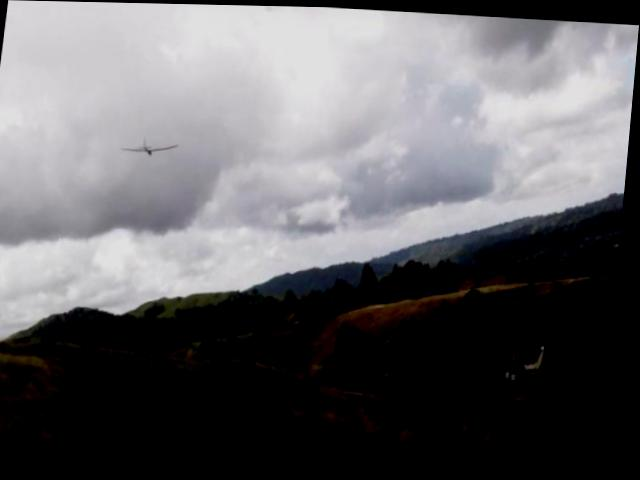iha: (119, 134, 183, 161)
